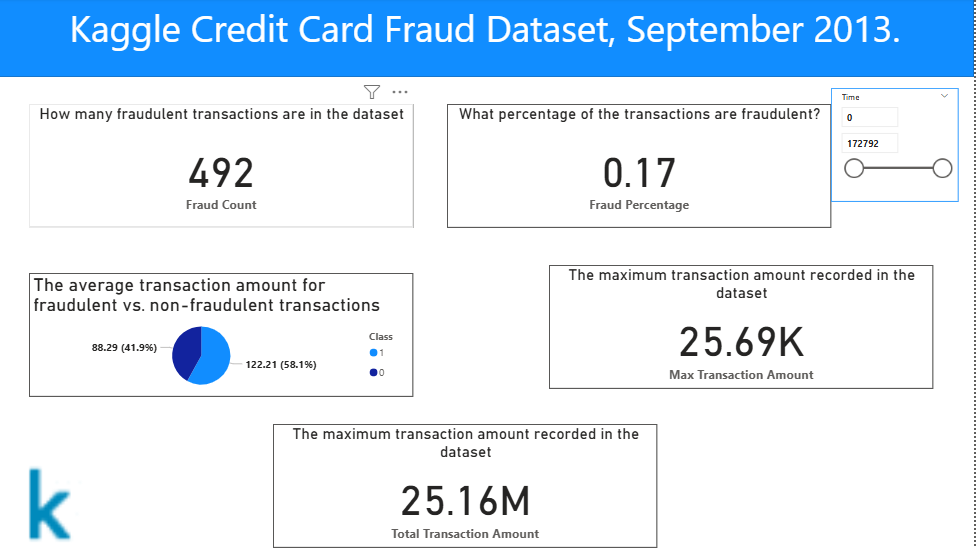

This screenshot's page, from the dashboard's own definition file:
{"tool":"powerbi","page":{"name":"Page 1","canvas":[1280,720],"ordinal":0},"visuals":[{"type":"shape","box":[0,0,1280,103.3],"z":1000},{"type":"textbox","box":[0,0,1280,90.1],"z":2000},{"type":"image","box":[0,604.8,140.9,114.7],"z":3000},{"type":"slicer","fields":{"Values":["Kaggle Creditcard Frd.Time"]},"box":[565.5,117.8,167.6,149.2],"z":6000},{"type":"barChart","title":"How many fraudulent transactions are in the dataset","fields":{"Y":["Kaggle Creditcard Frd.Fraud Count"]},"box":[31.7,118.4,479,189.9],"z":8001},{"type":"columnChart","title":"What percentage of the transactions are fraudulent?","fields":{"Y":["Kaggle Creditcard Frd.Fraud Percentage"]},"box":[781.8,118.4,477.6,188.6],"z":8002},{"type":"pieChart","title":"The average transaction amount for fraudulent vs. non-fraudulent transactions","fields":{"Y":["Kaggle Creditcard Frd.Avg Transaction Amount"],"Category":["Kaggle Creditcard Frd.Class"]},"box":[31.7,317.9,477.6,188.6],"z":8003},{"type":"pieChart","title":"The maximum transaction amount recorded in the dataset","fields":{"Y":["Kaggle Creditcard Frd.Max Transaction Amount"]},"box":[611.1,317.9,648.3,188.6],"z":8004},{"type":"donutChart","title":"The Total transaction amount recorded in the dataset","fields":{"Y":["Kaggle Creditcard Frd.Total Transaction Amount"]},"box":[291.9,531.5,661.1,188.5],"z":8005}]}

Visuals, with their boxes in screenshot pixels (x1, y1, x2, y2), scaled from the page's 1280x720 canvas onto the 977x548 screenshot:
shape: [x1=0, y1=0, x2=976, y2=79]
textbox: [x1=0, y1=0, x2=976, y2=69]
image: [x1=0, y1=460, x2=108, y2=547]
slicer - Kaggle Creditcard Frd.Time: [x1=432, y1=90, x2=560, y2=203]
"How many fraudulent transactions are in the dataset" barChart: [x1=24, y1=90, x2=390, y2=235]
"What percentage of the transactions are fraudulent?" columnChart: [x1=597, y1=90, x2=961, y2=234]
"The average transaction amount for fraudulent vs. non-fraudulent transactions" pieChart: [x1=24, y1=242, x2=389, y2=386]
"The maximum transaction amount recorded in the dataset" pieChart: [x1=466, y1=242, x2=961, y2=386]
"The Total transaction amount recorded in the dataset" donutChart: [x1=223, y1=405, x2=727, y2=547]
